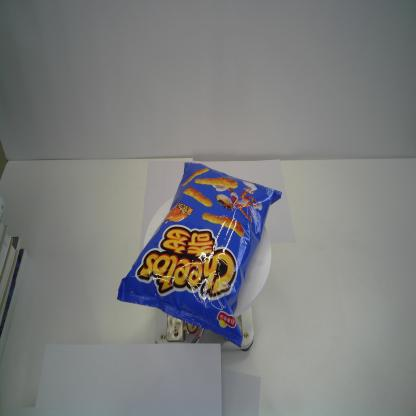Puffed Food: (114, 159, 282, 347)
